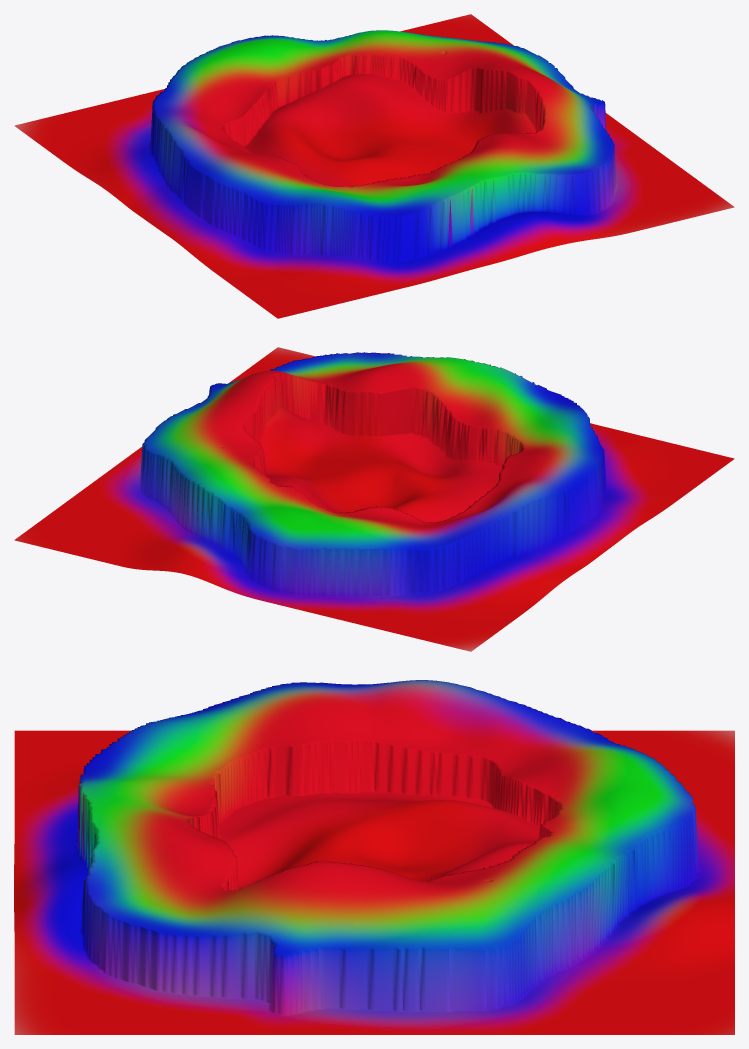
The model's file is afwfwa.fbx.
3 renders of one model, top to bottom at view 1: azimuth 30°, elevation 25°; view 2: azimuth 150°, elevation 25°; view 3: azimuth 270°, elevation 25°, orthographic. The views are drawn at different scales.
Visible parts, largest first — view 1: Plane; view 2: Plane; view 3: Plane.
Boxes of the visible parts, <box> form: Plane: <box>14,14,734,318</box>; Plane: <box>14,347,734,651</box>; Plane: <box>14,680,734,1034</box>.
Bounding box in the file's own units: 2005 × 335 × 2002.
